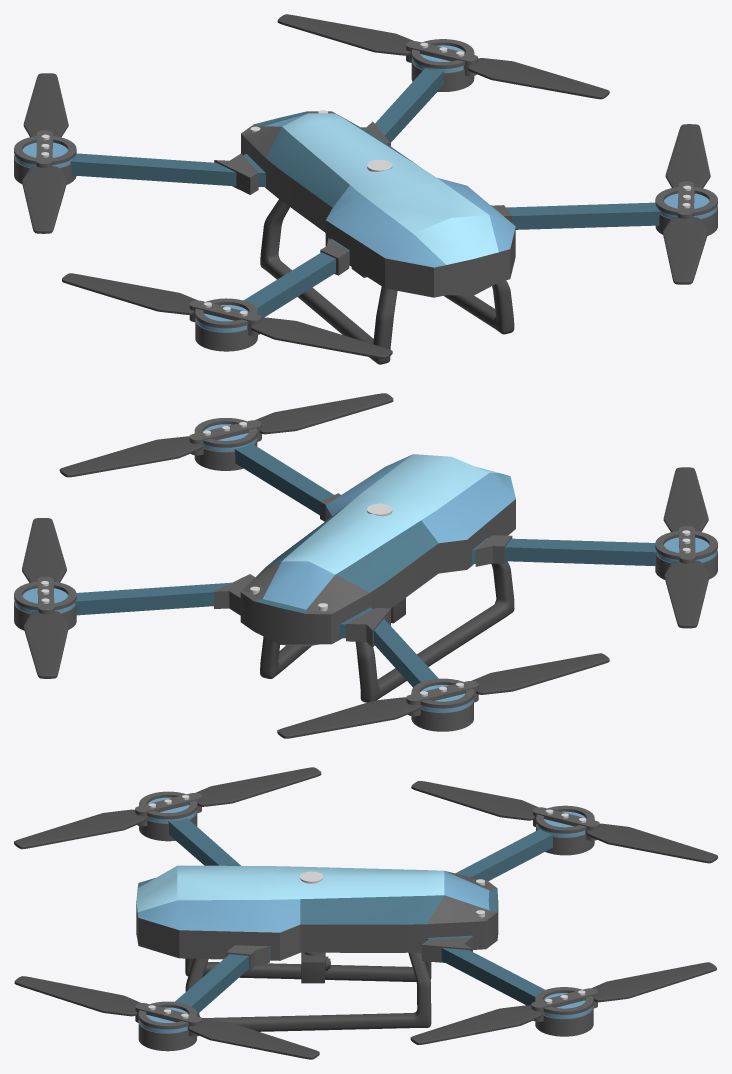
File: drone.fbx
3 renders of one model, top to bottom at view 1: azimuth 30°, elevation 25°; view 2: azimuth 150°, elevation 25°; view 3: azimuth 270°, elevation 25°, orthographic. The views are drawn at different scales.
Parts seen in each view (by area): view 1: body, frame, b_lb, b_rt, b_rb, b_lt, stands; view 2: body, frame, b_lt, b_rb, b_lb, b_rt, stands; view 3: body, frame, b_rt, b_rb, stands, b_lt, b_lb, cam.
Boxes of the visible parts, <box> form: body: <box>241,110,515,297</box>; frame: <box>70,68,660,317</box>; b_lb: <box>62,273,392,359</box>; b_rt: <box>277,14,609,99</box>; b_rb: <box>655,124,717,284</box>; b_lt: <box>14,73,76,233</box>; stands: <box>260,199,514,364</box>; body: <box>240,454,515,646</box>; frame: <box>75,443,657,687</box>; b_lt: <box>277,653,609,738</box>; b_rb: <box>59,393,393,477</box>; b_lb: <box>655,467,717,628</box>; b_rt: <box>14,518,76,678</box>; stands: <box>260,561,514,702</box>; body: <box>136,865,498,960</box>; frame: <box>168,818,553,1014</box>; b_rt: <box>410,962,716,1044</box>; b_rb: <box>14,976,319,1059</box>; stands: <box>185,952,431,1031</box>; b_lt: <box>411,781,717,863</box>; b_lb: <box>14,767,321,849</box>; cam: <box>301,952,330,983</box>.
Size of the model in its own units: 303 by 61.76 by 311.
